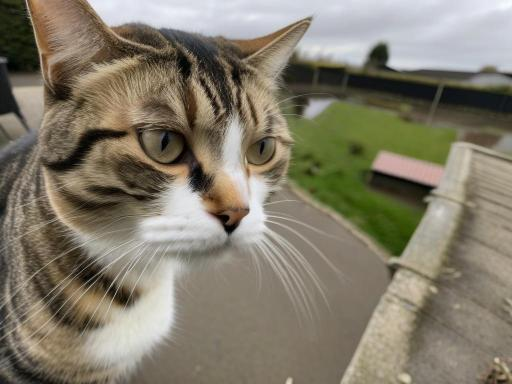cat_standing: (0, 0, 312, 384)
